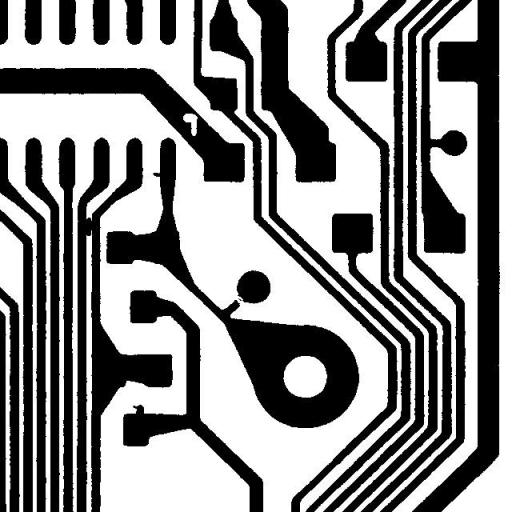open: (226, 288, 252, 314)
pin-hole: (175, 106, 205, 143)
short: (75, 210, 101, 243)
spur: (125, 397, 151, 423), (145, 165, 170, 185)
